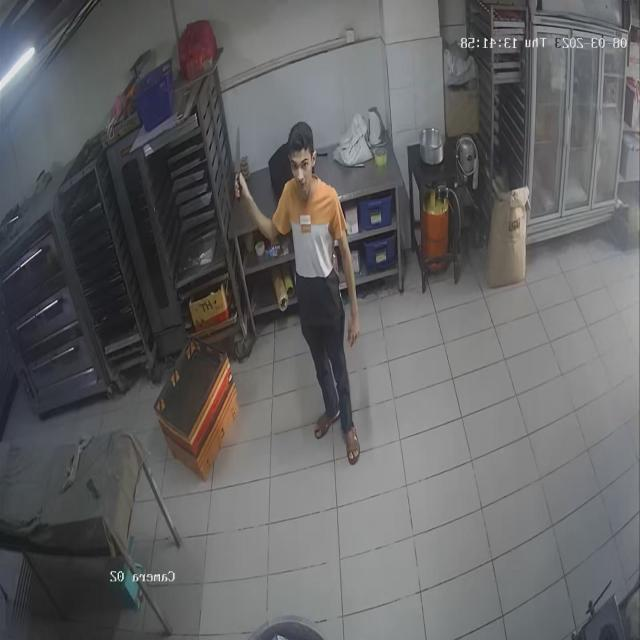Knife: (223, 112, 256, 198)
